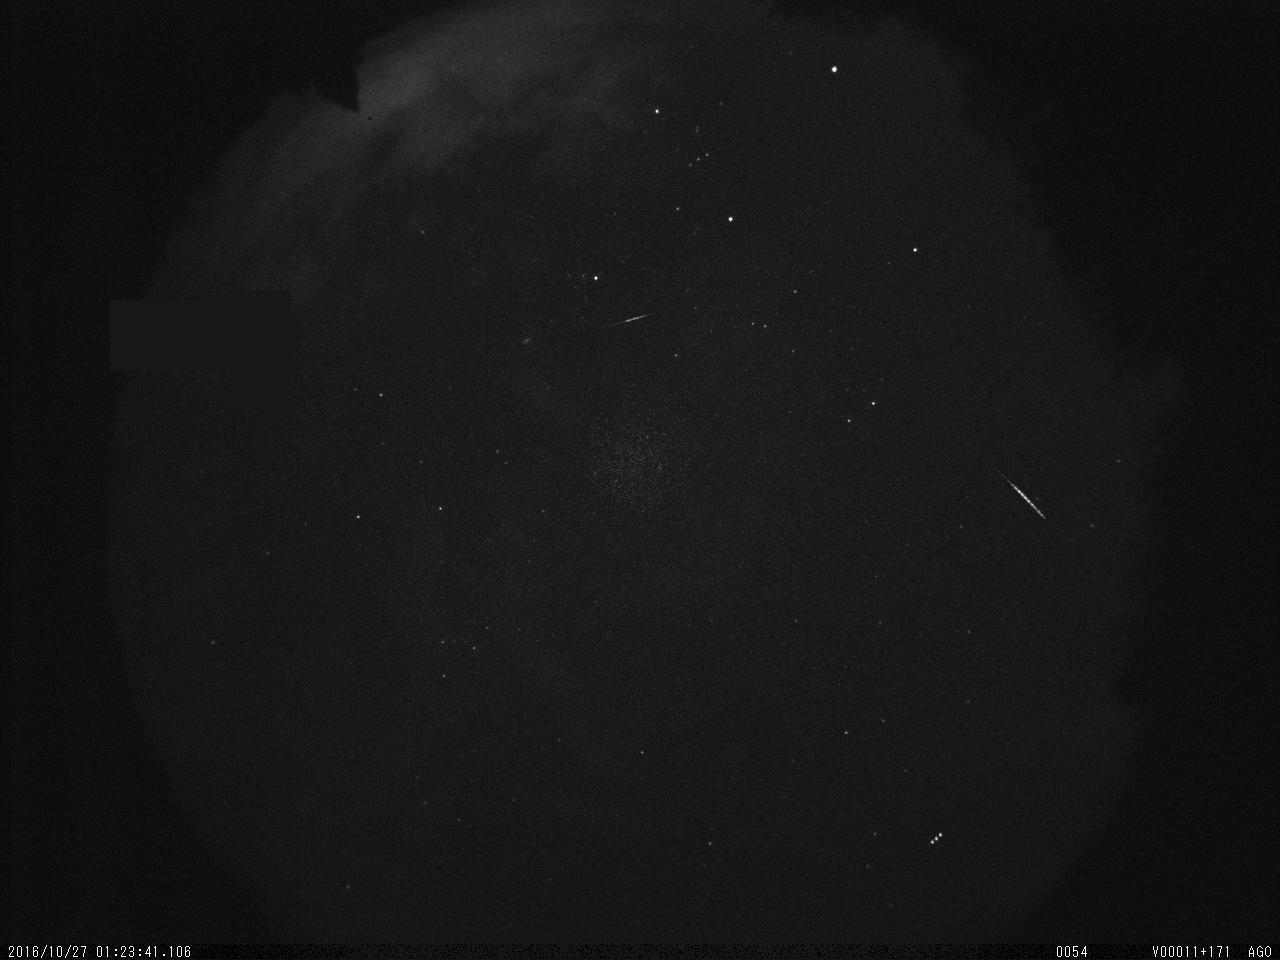meteor: (992, 460, 1055, 530), (607, 309, 663, 333)
satelite: (924, 825, 947, 853)
